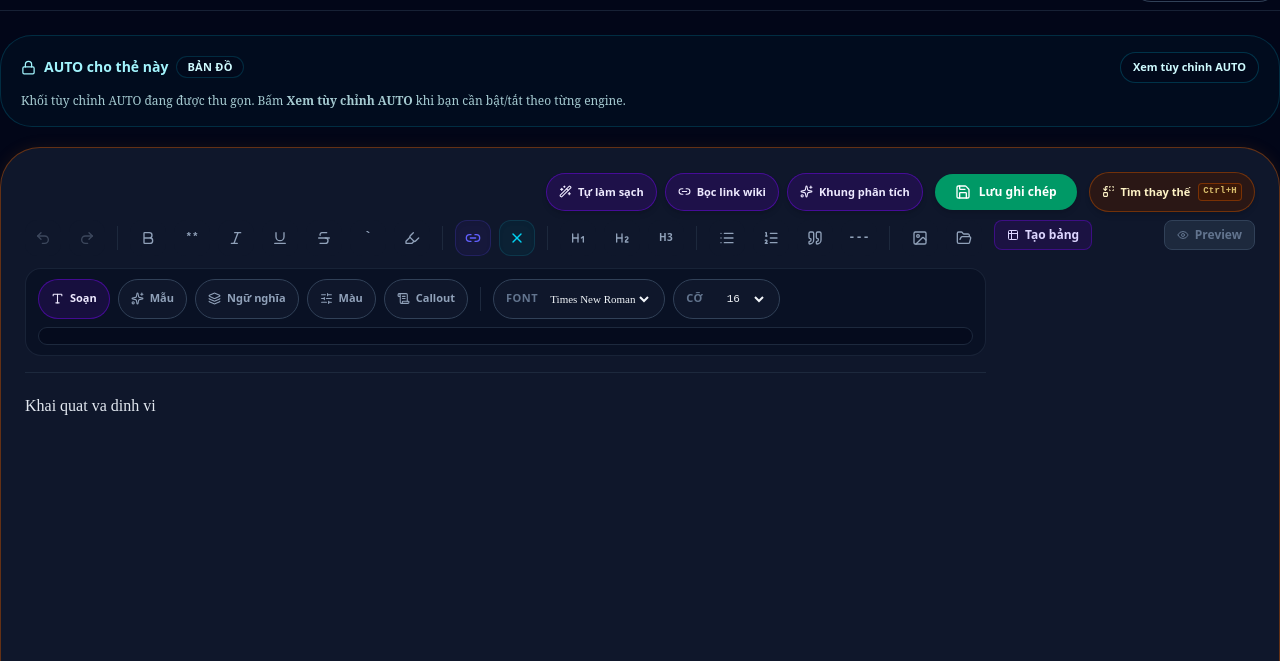
Test: AppEntityDetailNotes › smart-wraps the current line with the bold pair button
What coordinates should you click on to do the following:
click the button "**"
I would click on:
 (192, 238)
Its box is left=174, top=220, right=210, bottom=256.
(page scrolled)
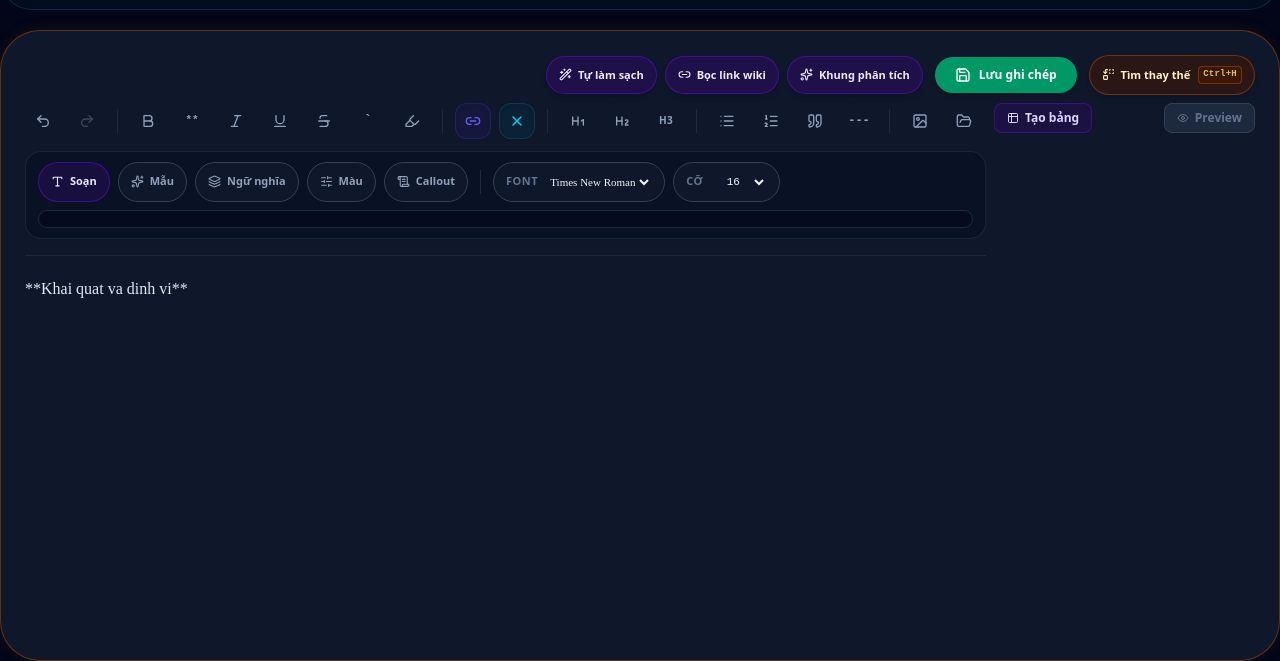
Expected: the text box holds "**Khai quat va dinh vi**", left=25, top=276, right=1255, bottom=636
